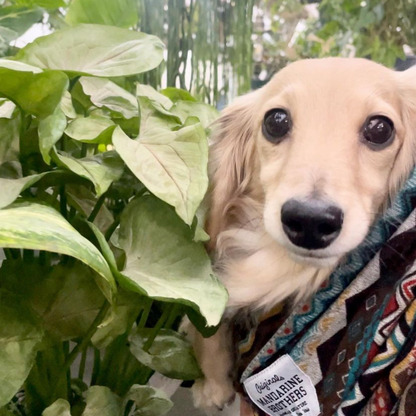dachshund: (197, 50, 409, 308)
